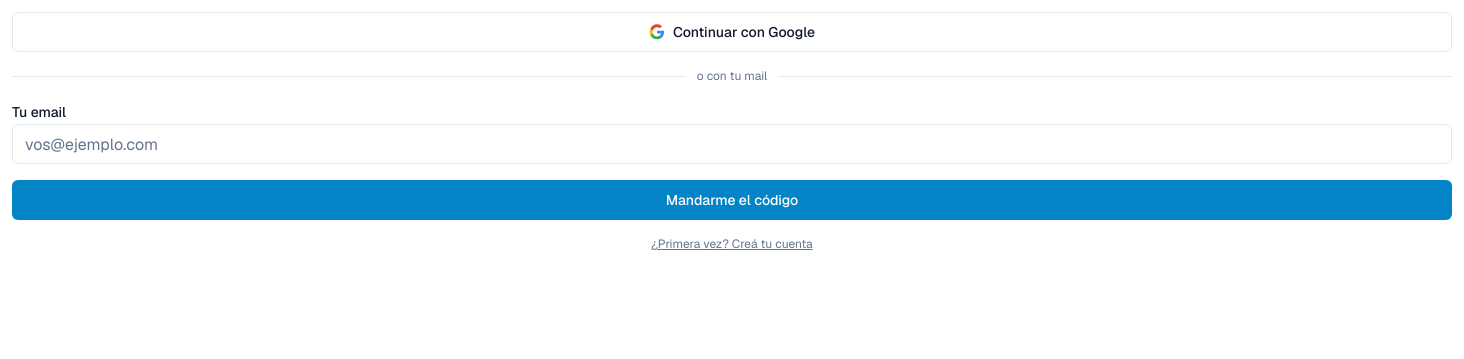
Test: LoginForm › verifyCode no-ok (400) → muestra errorInvalidCode sin redirigir
Type "test@example.com" into the field labelled "Tu email". click: [732, 144]
box: [12,124,1452,164]
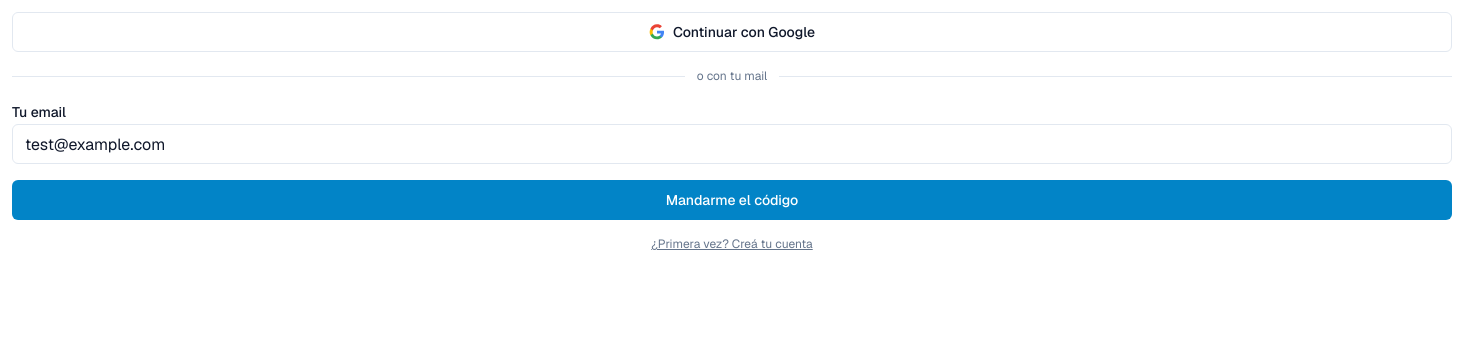
Submit the form "Mandarme el código", box [12,100,1452,220]
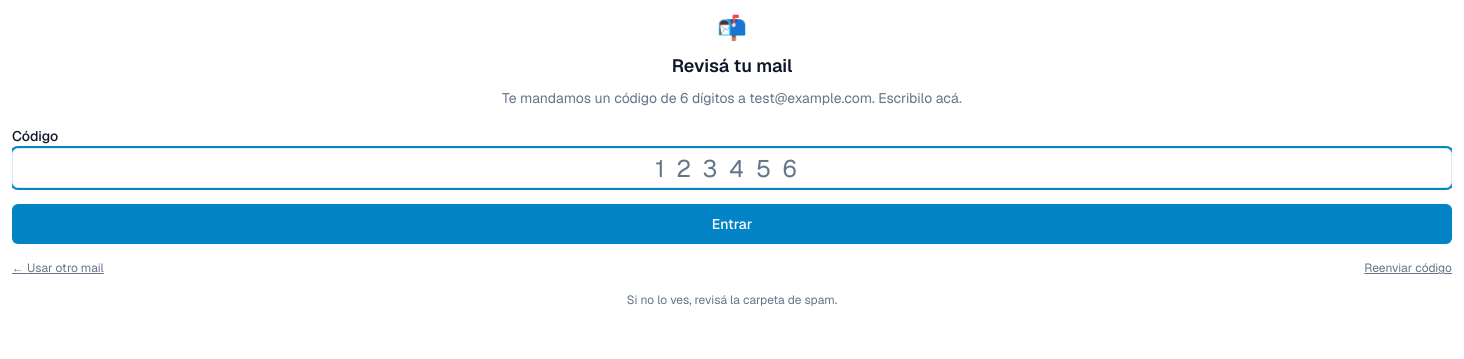
Expected: the field labelled "Código" is shown
Type "999999" into the field labelled "Código". click: [732, 168]
box: [12,148,1452,188]
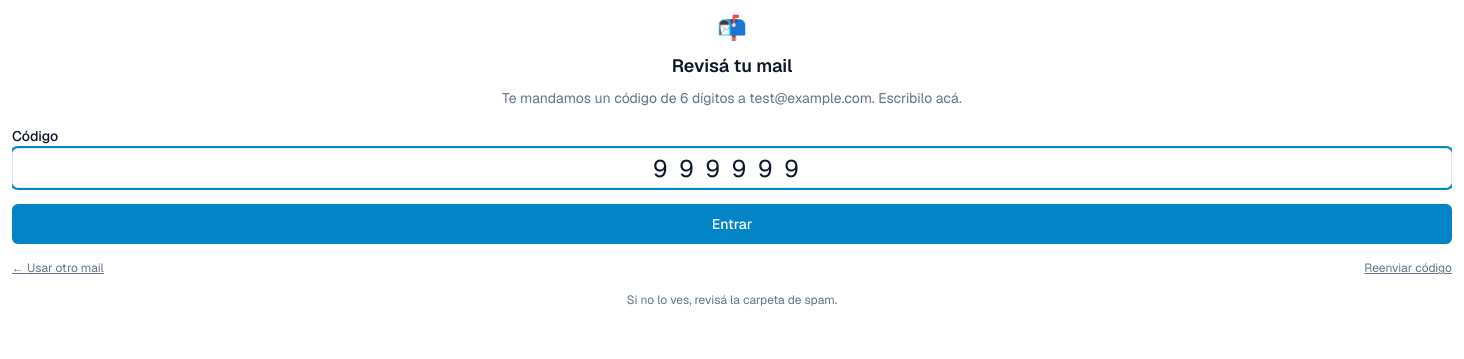
Submit the form named "Entrar"
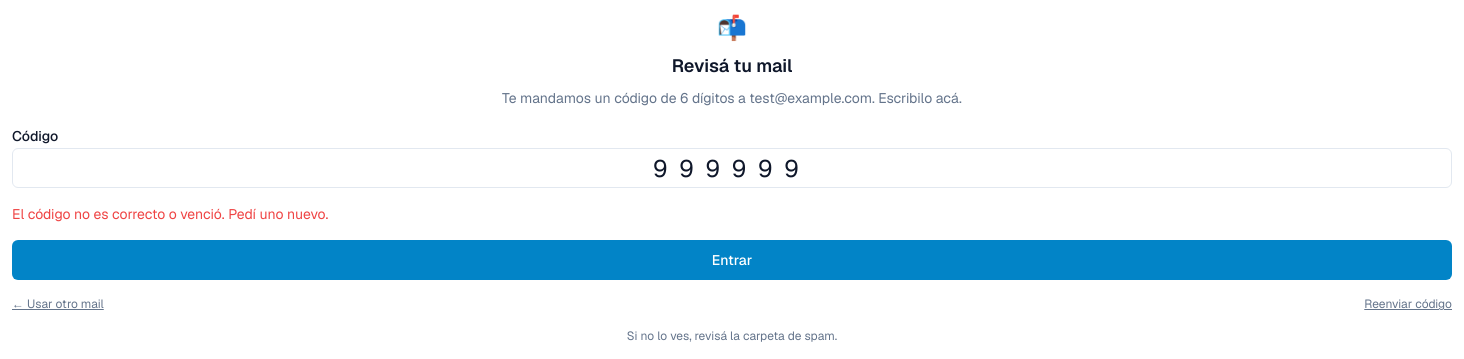
Expected: the text "El código no es correcto o venció. Pedí uno nuevo." is shown, [12,205,328,223]
